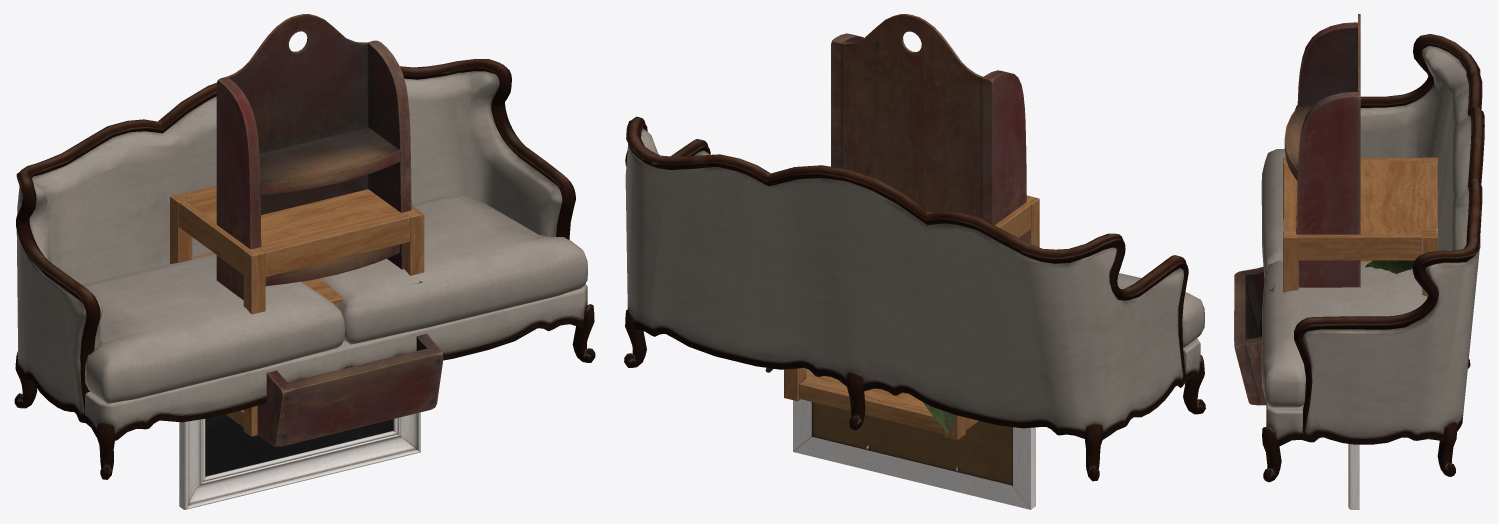
Rendered from raum-atelier.glb.
3 views of the same model, side by side, from view 1: azimuth 30°, elevation 25°; view 2: azimuth 150°, elevation 25°; view 3: azimuth 270°, elevation 25° (orthographic). The views are drawn at different scales.
Parts seen in each view (by area): view 1: Sofa_01, painted_wooden_shelves, side_table_01, hanging_picture_frame_02; view 2: Sofa_01, painted_wooden_shelves, hanging_picture_frame_02, side_table_01; view 3: Sofa_01, painted_wooden_shelves, side_table_01, hanging_picture_frame_02, anthurium_botany_01_b.
Part boxes in pixels (x1,y1,x2,y2): Sofa_01: [14, 59, 595, 479]; painted_wooden_shelves: [216, 14, 443, 446]; side_table_01: [170, 185, 424, 436]; hanging_picture_frame_02: [179, 412, 420, 509]; Sofa_01: [624, 116, 1205, 481]; painted_wooden_shelves: [831, 14, 1026, 241]; hanging_picture_frame_02: [793, 399, 1035, 509]; side_table_01: [784, 195, 1039, 440]; Sofa_01: [1259, 34, 1484, 482]; painted_wooden_shelves: [1234, 14, 1360, 405]; side_table_01: [1283, 157, 1437, 296]; hanging_picture_frame_02: [1348, 444, 1359, 509]; anthurium_botany_01_b: [1269, 260, 1414, 291].
Size of the model in its own units: 1.57 by 1.4 by 0.7283.
12 materials, 12 textured.
